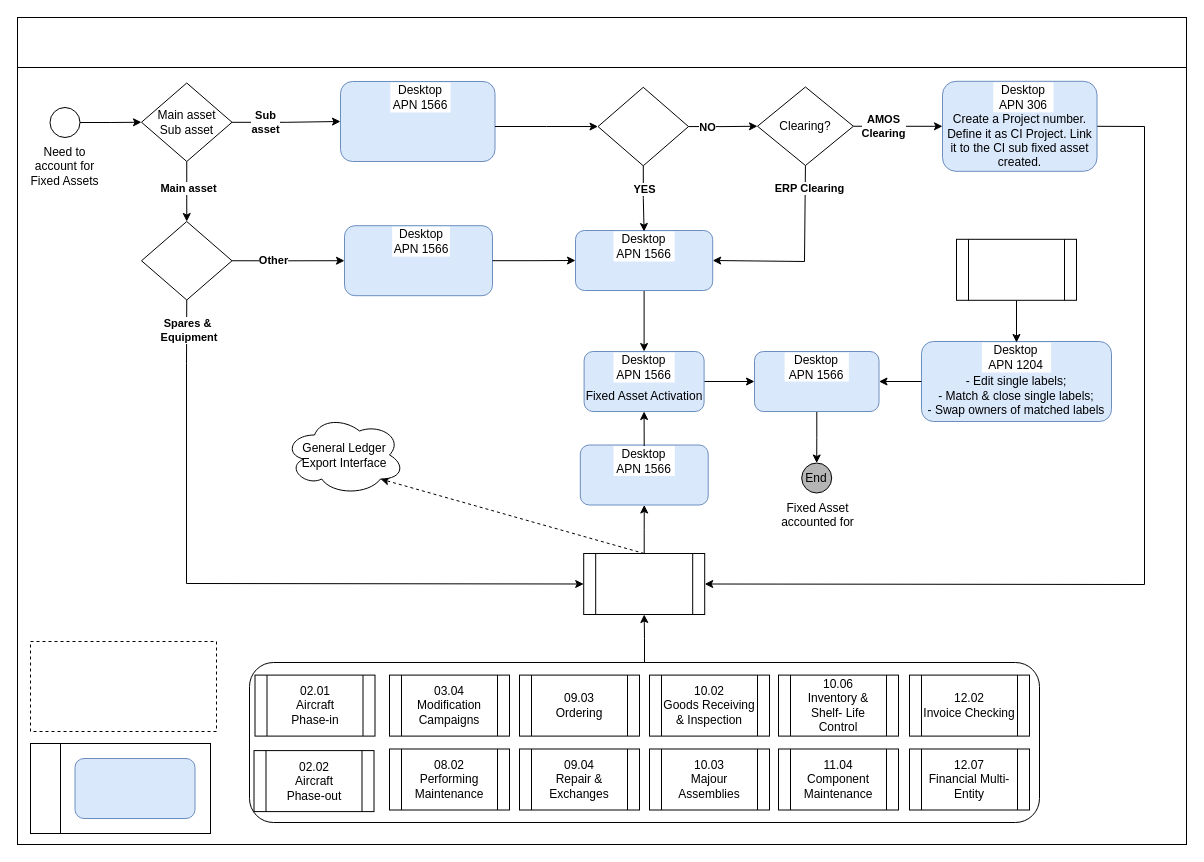
Some shapes in this 1204 by 862 pixel diagram are drawn without their labels. Each missing label, with the box of its shape:
08.04 Parts Removal & Installation: (956, 238, 1076, 300)
12.01 Financial Accounting: (583, 552, 705, 614)
12.03 Fixed Assets & Depreciation: (16, 16, 1186, 68)
Accounting Dpt.: (74, 758, 195, 818)
Acquisition cost input: (579, 444, 708, 505)
Acquisition cost manual input /ERP Clearing/: (574, 230, 713, 290)
Create CI sub fixed asset under selected main fixed asset: (340, 80, 495, 162)
Create main fixed asset of desired fixed asset type: (344, 225, 492, 296)
Embedded maintenance?: (597, 86, 688, 166)
Fixed Asset Type?: (140, 220, 232, 300)
LEGEND: (30, 742, 60, 834)
Monitor and Control of Fixed Assets: (754, 350, 879, 412)
Note: SE = Spares & Equipment CI = Capital Improvement: (30, 640, 216, 732)
Start: (49, 106, 80, 138)
